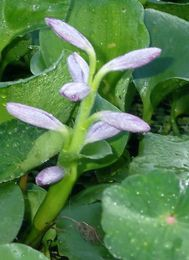water_hyacinth: (0, 0, 189, 260)
